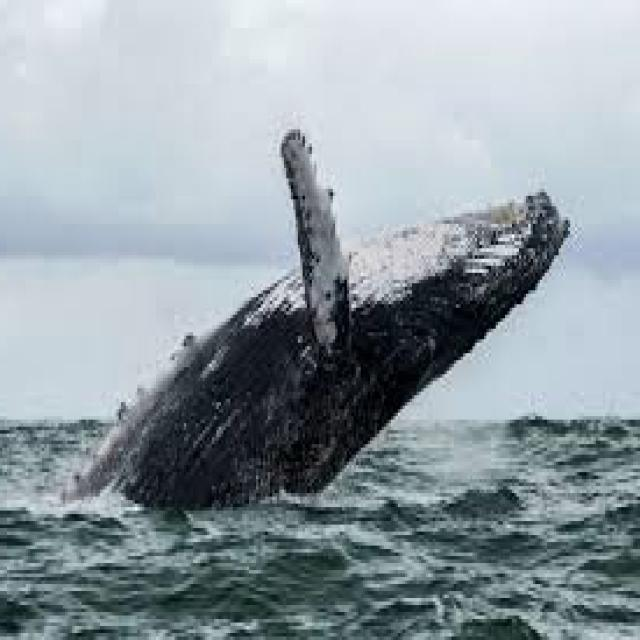whale: (79, 129, 570, 507)
